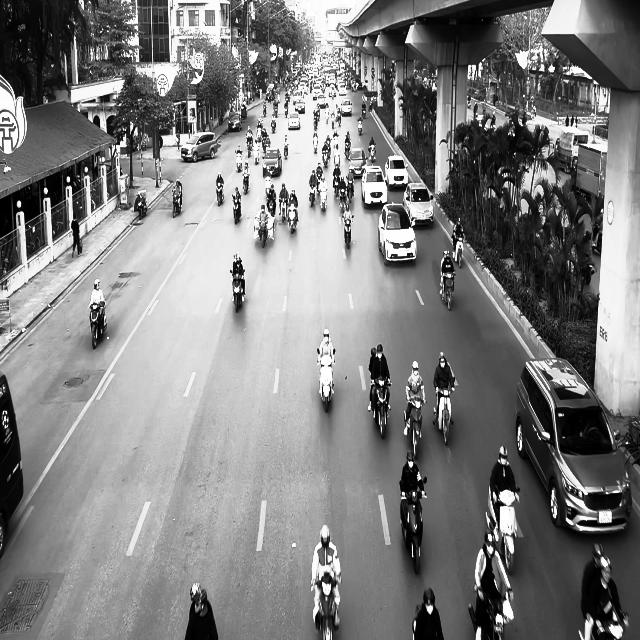car: (515, 357, 632, 534), (378, 203, 417, 266), (403, 182, 434, 226), (360, 164, 388, 208), (180, 132, 218, 162), (384, 154, 409, 190), (262, 148, 282, 177), (349, 148, 367, 177), (228, 112, 242, 132), (288, 111, 300, 130), (341, 98, 352, 116)
motorbike: (488, 484, 520, 574), (399, 476, 427, 574), (312, 572, 341, 639), (432, 382, 456, 445), (578, 610, 629, 639), (403, 396, 426, 459), (370, 377, 391, 438), (317, 347, 335, 412), (89, 300, 107, 349), (229, 268, 245, 312), (440, 271, 456, 310), (453, 233, 464, 268), (342, 216, 353, 249), (135, 190, 147, 219), (172, 190, 182, 218), (232, 194, 241, 224), (258, 218, 267, 248), (242, 170, 250, 194), (216, 182, 224, 205)
